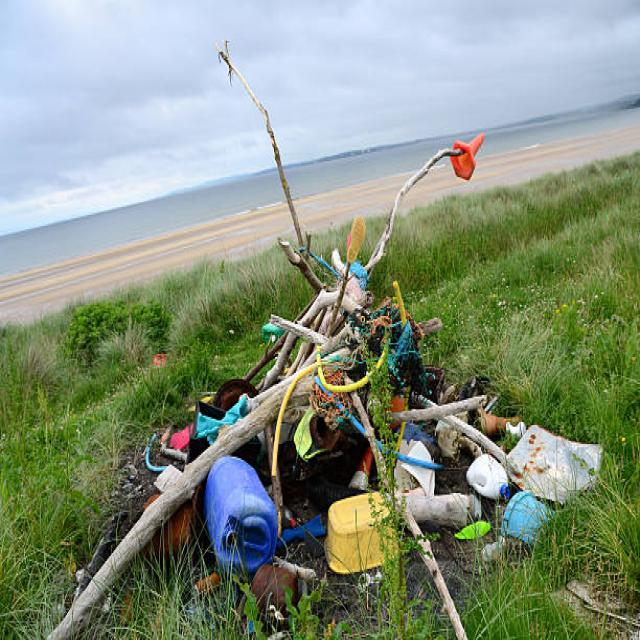plastic: (214, 452, 280, 575), (319, 500, 407, 562), (461, 453, 520, 498), (475, 401, 524, 441)
